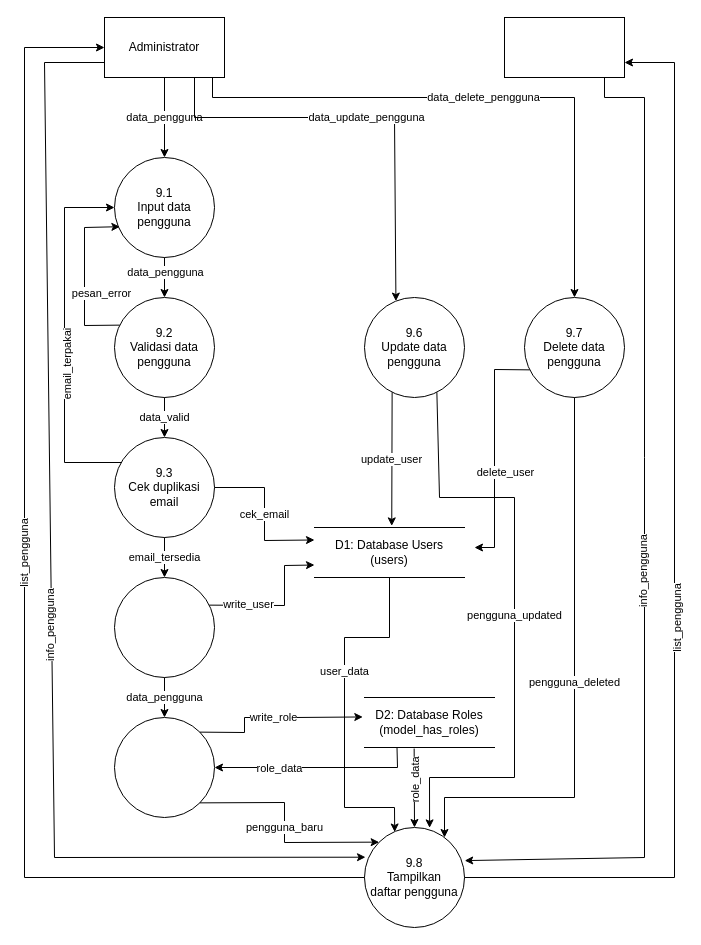
Some shapes in this 701 by 945 pixel diagram are drawn without their labels. Each missing label, with the centre of its shape:
9.4 Simpan data pengguna: point (164, 627)
9.5 Assign role pengguna: point (164, 767)
Pengurus: point (564, 47)
